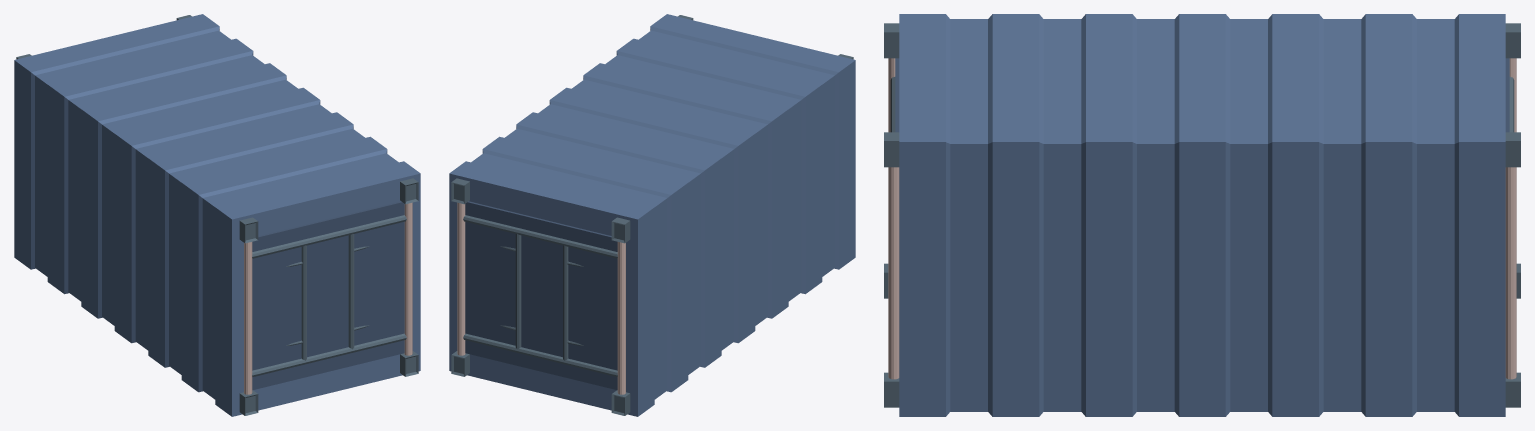
File: box_container.glb
3 views of the same model, side by side, from view 1: azimuth 30°, elevation 25°; view 2: azimuth 150°, elevation 25°; view 3: azimuth 270°, elevation 25° (orthographic). The views are drawn at different scales.
Visible parts, largest first — view 1: box_container_mesh; view 2: box_container_mesh; view 3: box_container_mesh.
Boxes of the visible parts, x1,y1,x2,y2 form: box_container_mesh: (14, 14, 420, 416); box_container_mesh: (449, 14, 855, 416); box_container_mesh: (884, 14, 1520, 416).
Size of what is drawn, in the model's own units: 4 by 4 by 8.4.
